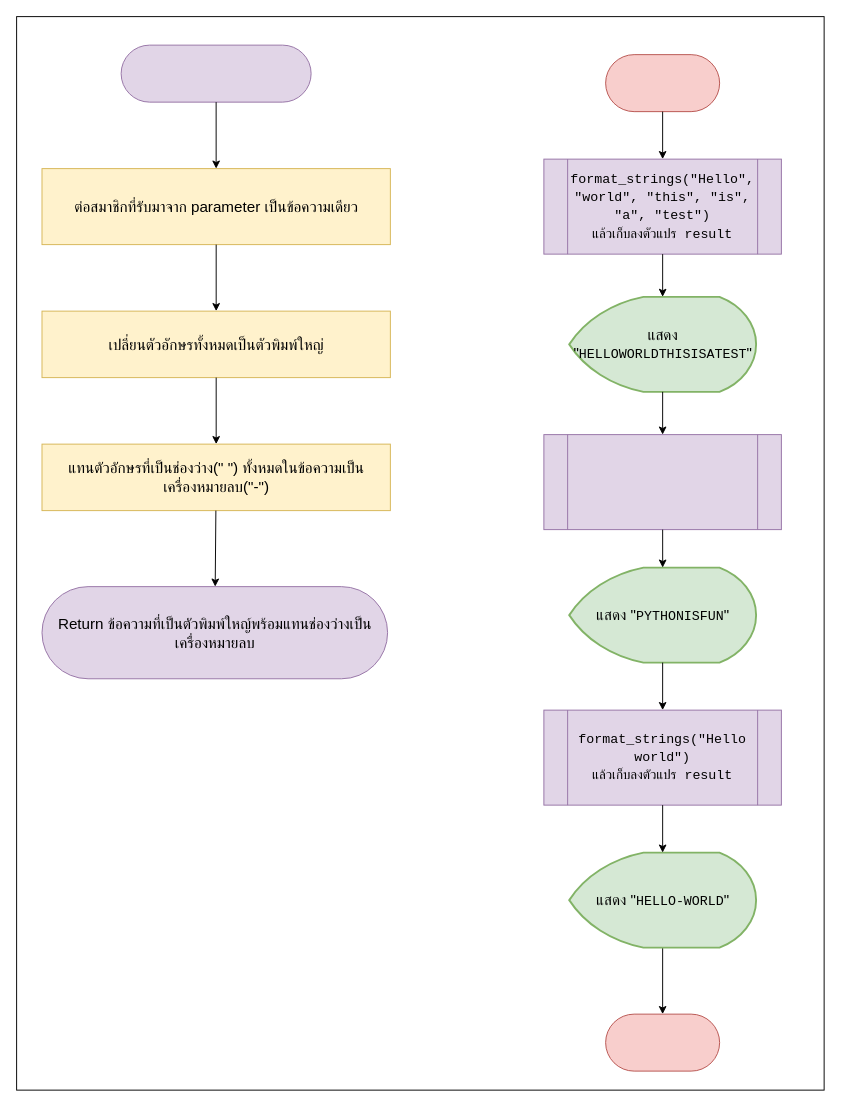
This 841x1107 diagram has some shape labels left out. The shapes that lost their labels are listed below. From the top down, each one's centre as x and y in pixels, then its label:
pixel 215 73: format_strings(*args)
pixel 662 83: Start
pixel 662 482: format_strings("Python", "is", "fun") แล้วเก็บลงตัวแปร result
pixel 662 1042: End
